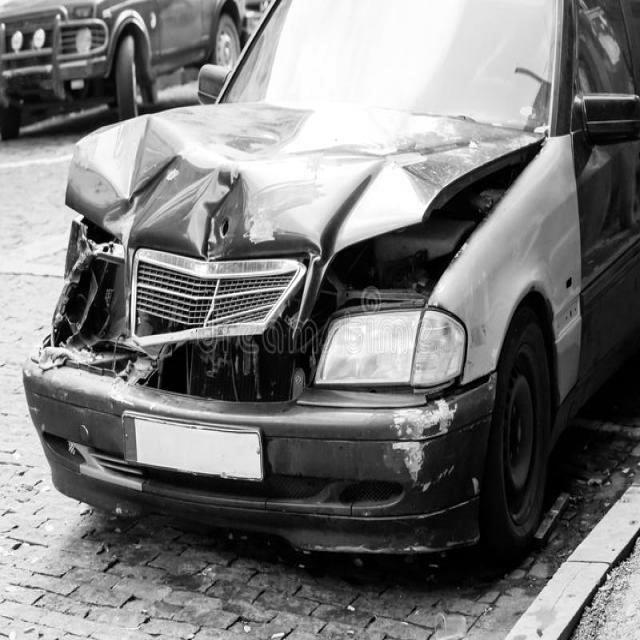bonnet-dent: (65, 59, 520, 288)
front-bumper-dent: (264, 367, 529, 578)
